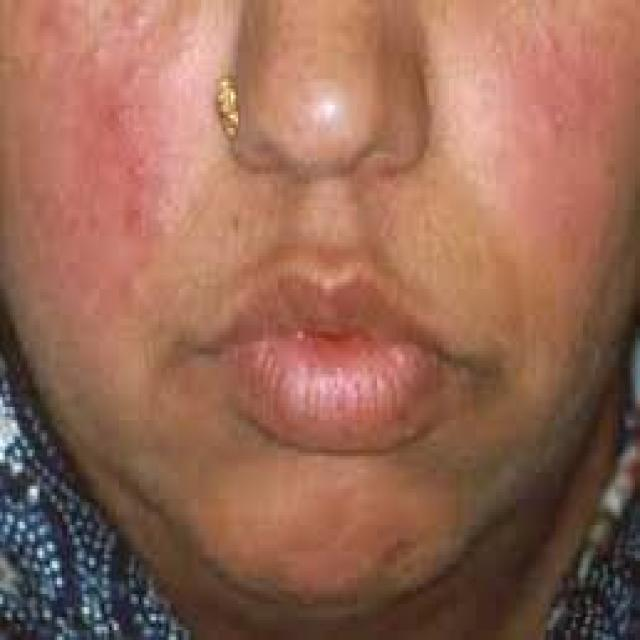Rosacea: (73, 72, 175, 266)
